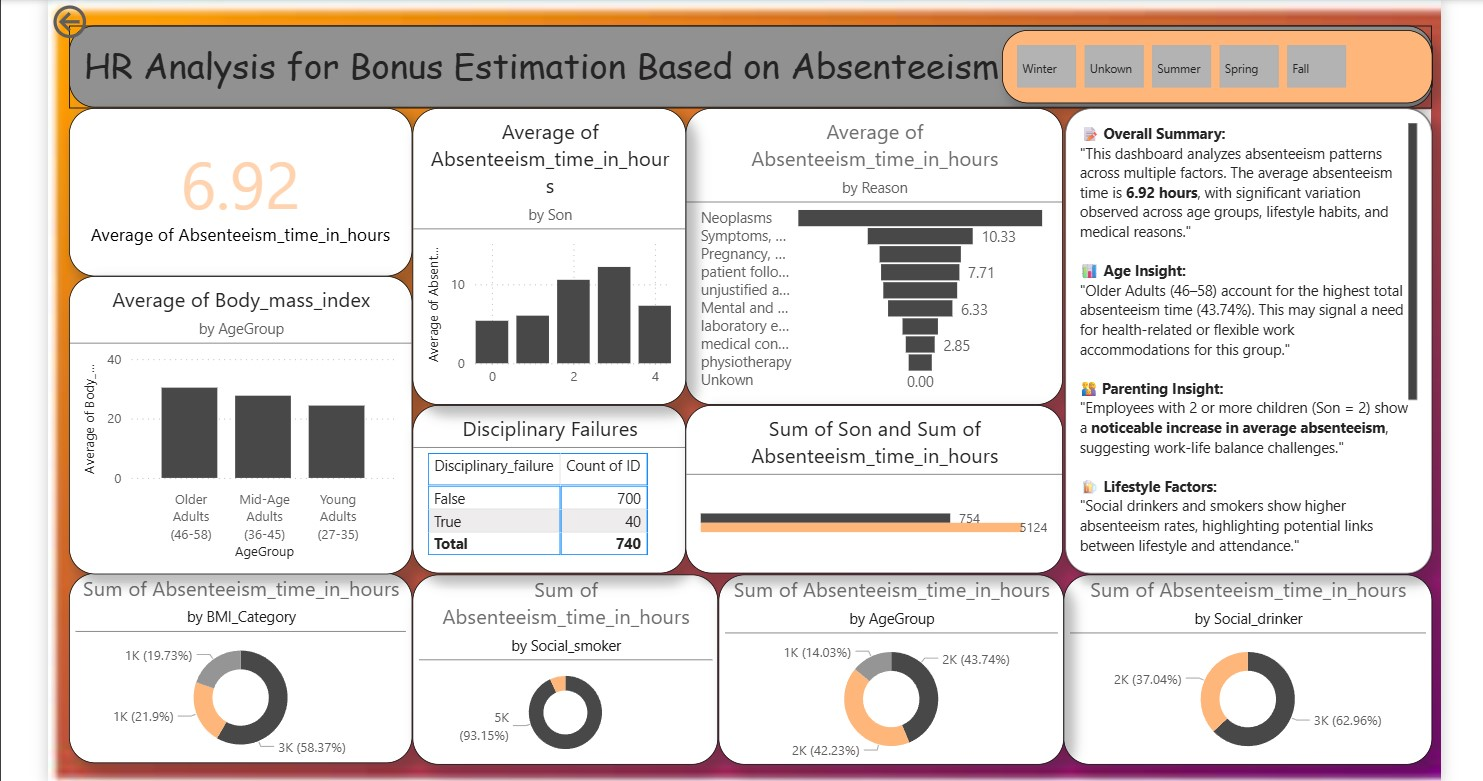

The page's visual inventory and layout, read from the dashboard file:
{"tool":"powerbi","page":{"name":"Page 1","canvas":[1280,720],"ordinal":0},"visuals":[{"type":"donutChart","fields":{"Category":["Query1.BMI_Category"],"Y":["Sum(Query1.Absenteeism_time_in_hours)"]},"box":[19.2,526.3,315.2,174.8],"z":0},{"type":"textbox","box":[18.9,23.3,1252.4,75.4],"z":1000},{"type":"card","fields":{"Values":["Avg(Query1.Absenteeism_time_in_hours)"]},"box":[19.2,99,315.2,154.6],"z":2000},{"type":"donutChart","fields":{"Category":["Query1.Social_drinker"],"Y":["Sum(Query1.Absenteeism_time_in_hours)"]},"box":[932.5,527.4,338.4,174.8],"z":3000},{"type":"donutChart","fields":{"Category":["Query1.Social_smoker"],"Y":["Sum(Query1.Absenteeism_time_in_hours)"]},"box":[334.4,527.4,280.9,174.8],"z":4000},{"type":"actionButton","box":[0,0,100,40],"z":5000},{"type":"donutChart","fields":{"Category":["Query1.AgeGroup"],"Y":["Sum(Query1.Absenteeism_time_in_hours)"]},"box":[615.2,527.4,317.2,174.8],"z":6000},{"type":"advancedSlicerVisual","title":"Seasons","fields":{"Values":["Query1.Season_Names"]},"box":[876.2,26.9,395,67.3],"z":7000},{"type":"clusteredColumnChart","fields":{"Category":["Query1.AgeGroup"],"Y":["Avg(Query1.Absenteeism_time_in_hours)"]},"box":[617.4,769,662.6,303.1],"z":8000},{"type":"funnel","fields":{"Category":["Query1.Reason"],"Y":["Avg(Query1.Absenteeism_time_in_hours)"]},"box":[586,99,346.5,272.8],"z":9000},{"type":"qnaVisual","box":[617.4,1082,662.6,198],"z":10000},{"type":"clusteredColumnChart","fields":{"Y":["Avg(Query1.Body_mass_index)"],"Category":["Query1.AgeGroup"]},"box":[19.2,253.6,315.2,273.8],"z":11000},{"type":"pivotTable","title":"Disciplinary Failures","fields":{"Rows":["Query1.Disciplinary_failure"],"Values":["CountNonNull(Query1.ID)"]},"box":[334.4,371.8,251.6,154.6],"z":12000},{"type":"clusteredColumnChart","fields":{"Y":["Avg(Query1.Absenteeism_time_in_hours)"],"Category":["Query1.Son"]},"box":[334.4,99,251.6,272.8],"z":13000},{"type":"clusteredBarChart","fields":{"Y":["Sum(Query1.Son)","Sum(Query1.Absenteeism_time_in_hours)"]},"box":[586,371.8,346.5,154.6],"z":14000},{"type":"textbox","box":[933.7,98.8,337.6,428.2],"z":15000}]}

Visuals, with their boxes in screenshot pixels (x1, y1, x2, y2):
donutChart - Query1.BMI_Category x Sum(Query1.Absenteeism_time_in_hours): left=86, top=566, right=423, bottom=753
textbox: left=86, top=29, right=1424, bottom=109
card - Avg(Query1.Absenteeism_time_in_hours): left=86, top=110, right=423, bottom=275
donutChart - Query1.Social_drinker x Sum(Query1.Absenteeism_time_in_hours): left=1062, top=567, right=1424, bottom=754
donutChart - Query1.Social_smoker x Sum(Query1.Absenteeism_time_in_hours): left=423, top=567, right=723, bottom=754
actionButton: left=66, top=4, right=173, bottom=47
donutChart - Query1.AgeGroup x Sum(Query1.Absenteeism_time_in_hours): left=723, top=567, right=1062, bottom=754
"Seasons" advancedSlicerVisual: left=1002, top=33, right=1424, bottom=105
funnel - Query1.Reason x Avg(Query1.Absenteeism_time_in_hours): left=692, top=110, right=1062, bottom=401
clusteredColumnChart - Avg(Query1.Body_mass_index) x Query1.AgeGroup: left=86, top=275, right=423, bottom=567
"Disciplinary Failures" pivotTable: left=423, top=401, right=692, bottom=566
clusteredColumnChart - Avg(Query1.Absenteeism_time_in_hours) x Query1.Son: left=423, top=110, right=692, bottom=401
clusteredBarChart - Sum(Query1.Son) x Sum(Query1.Absenteeism_time_in_hours): left=692, top=401, right=1062, bottom=566
textbox: left=1063, top=109, right=1424, bottom=567
